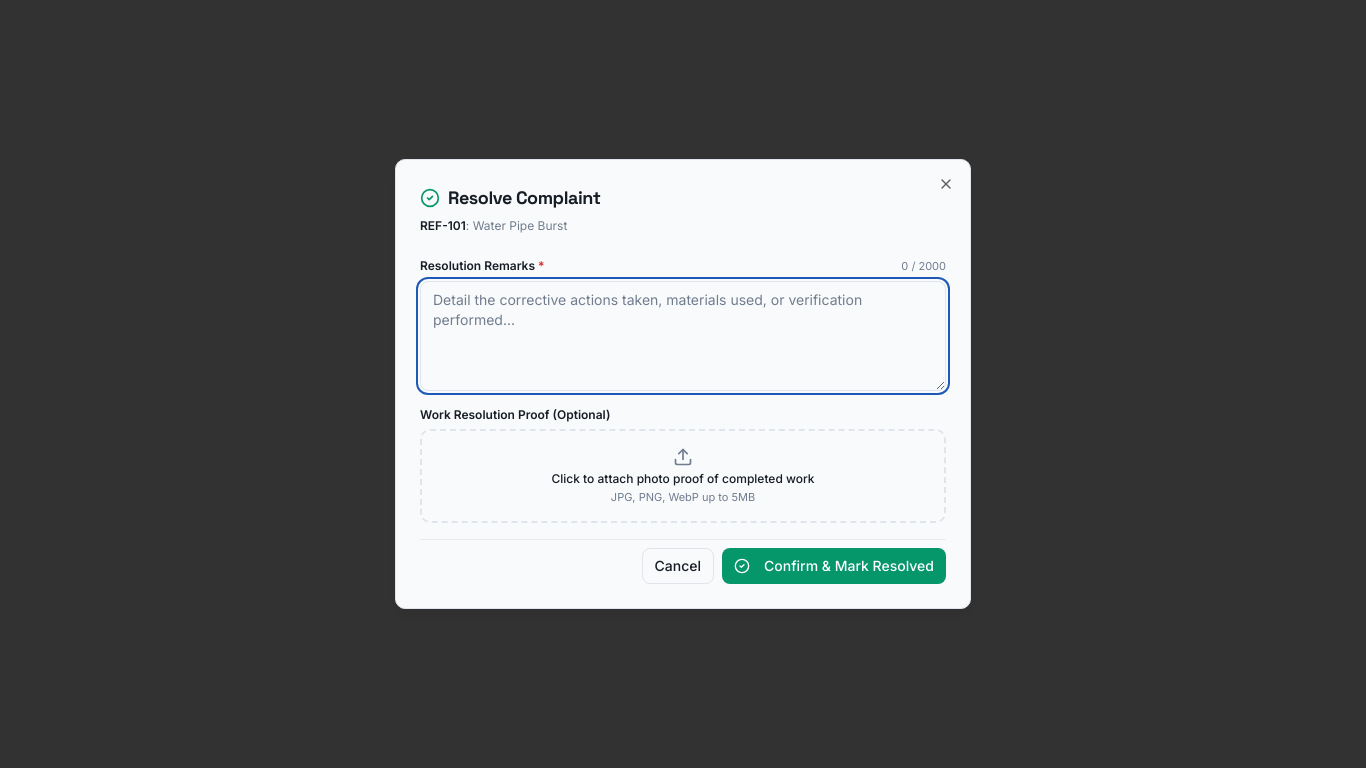
Test: Phase 7B: Complaint Resolution Evidence & Citizen Feedback (Frontend) › 3. ResolveComplaintDialog: updates character count and enforces 2000 character limit
Replace the text in the text box labelled "Resolution Remarks *" with "Repaired pipe leak" at coordinates (683, 336), box [420,280,946,390]
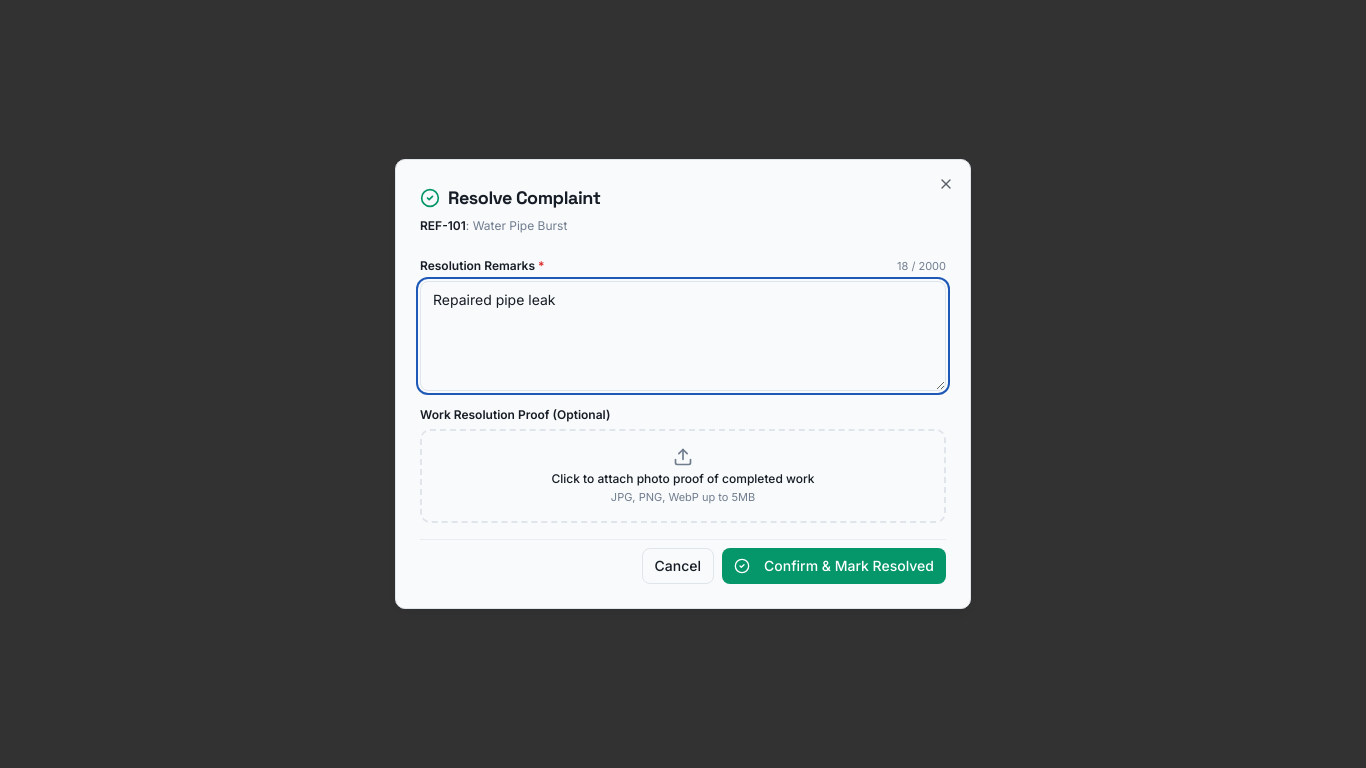
expect the text "18 / 2000" is shown: met, box [897,258,946,274]
